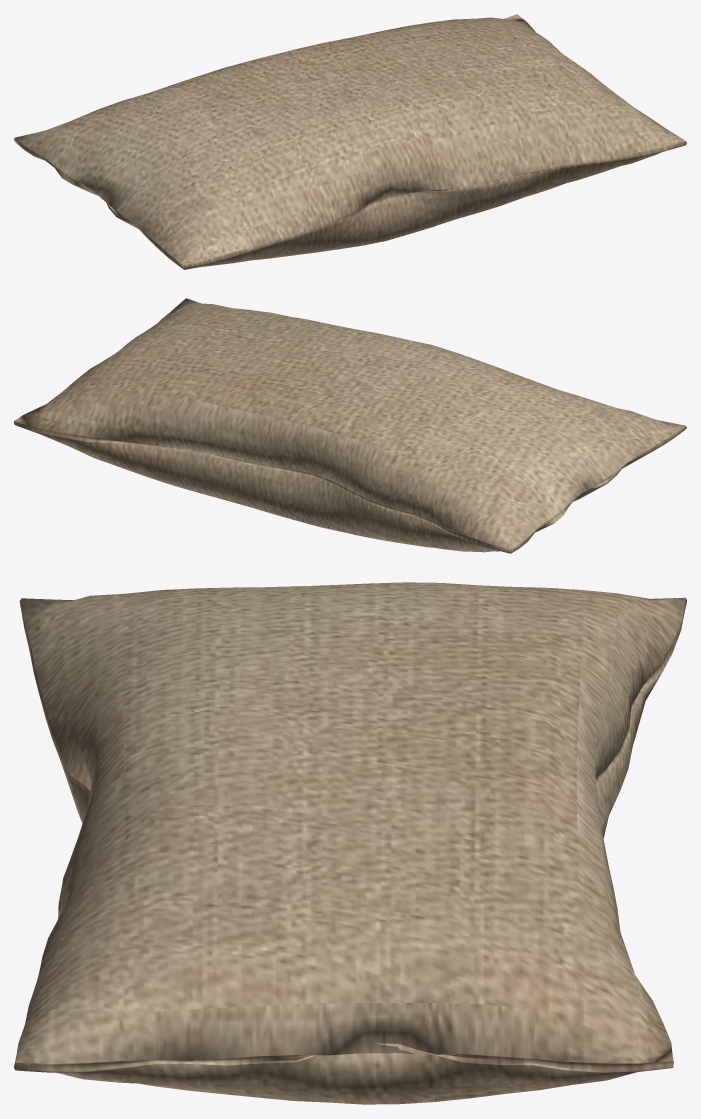
Rendered from podushkaFINAL.fbx.
3 views of the same model, one above another, from view 1: azimuth 30°, elevation 25°; view 2: azimuth 150°, elevation 25°; view 3: azimuth 270°, elevation 25° (orthographic). The views are drawn at different scales.
Visible parts, largest first — view 1: Cube.009; view 2: Cube.009; view 3: Cube.009.
Part boxes in pixels (<box>): Cube.009: <box>14,14,686,269</box>; Cube.009: <box>14,298,686,553</box>; Cube.009: <box>14,582,686,1104</box>.
Size of the model in its own units: 209 by 48.35 by 125.
Materials: 1 (1 with a texture image).
